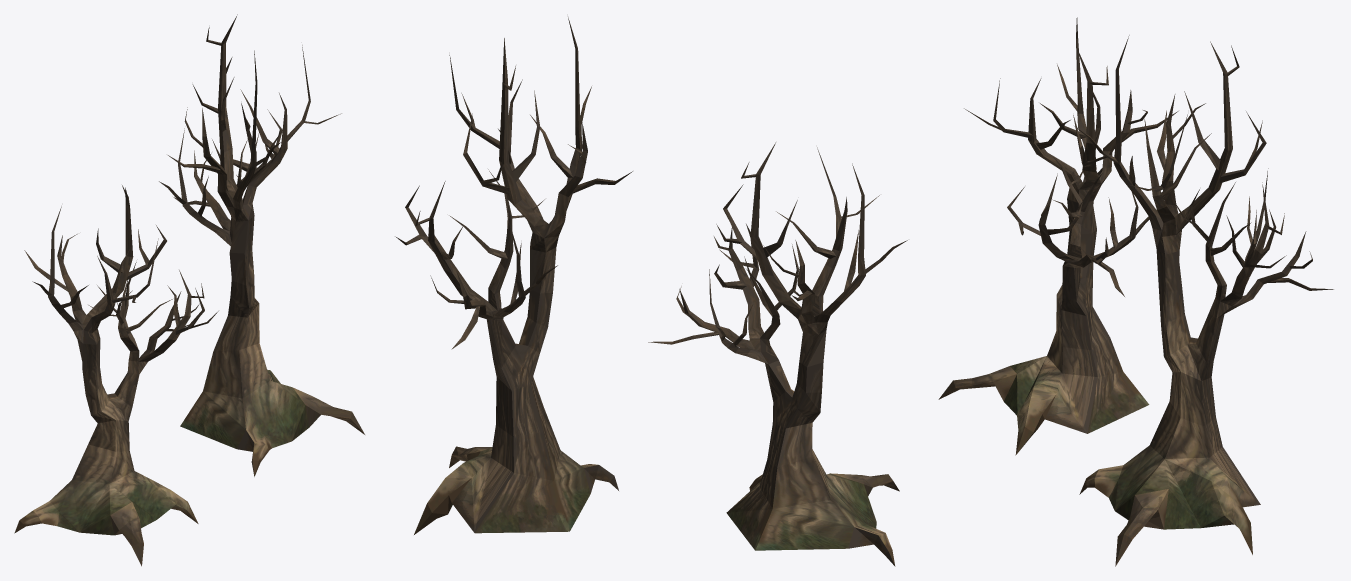
The model's file is plants_tall_tree_trunks211.fbx.
3 renders of one model, left to right at view 1: azimuth 30°, elevation 25°; view 2: azimuth 150°, elevation 25°; view 3: azimuth 270°, elevation 25°, orthographic. The views are drawn at different scales.
Parts seen in each view (by area): view 1: obj0.162; view 2: obj0.162; view 3: obj0.162.
Boxes of the visible parts, x1,y1,x2,y2 form: obj0.162: (14,14,364,566); obj0.162: (395,17,907,566); obj0.162: (938,17,1333,566).
Size of the model in its own units: 8.48 by 9.38 by 6.99.
